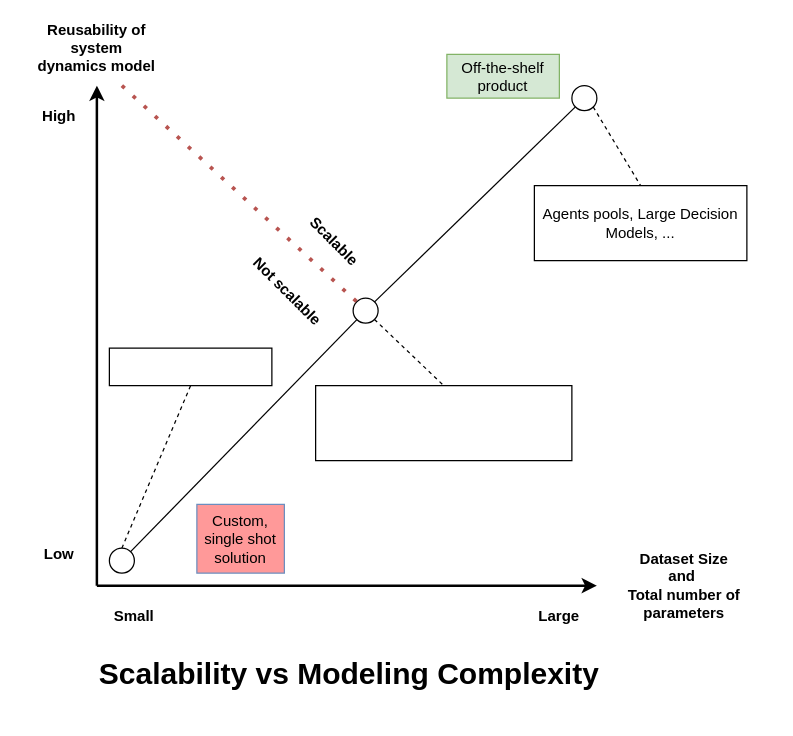
Some shapes in this 793 by 736 pixel diagram are drawn without their labels. The shapes that lost their labels are listed below. From the top down, each one's centre as x and y in pixels, then its label:
At [190,366]: "Custom twin Single policy".
At [443,422]: "Transfer learning, Twin templates, Zone or system-level reusable agents".
